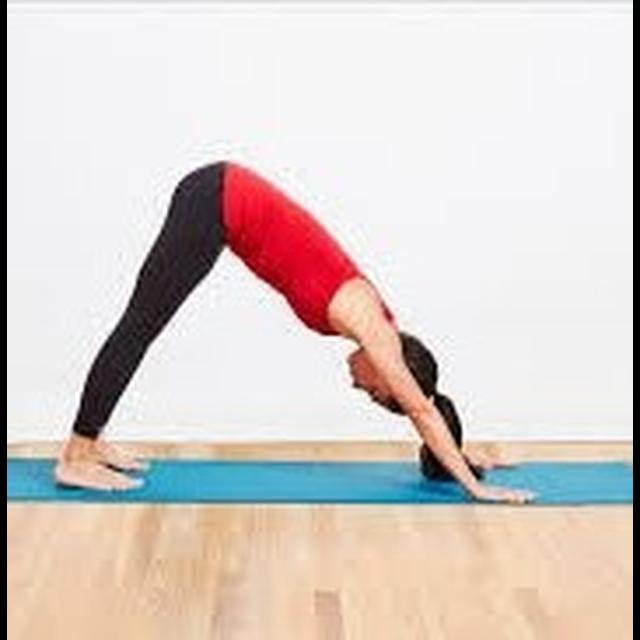Downward-Facing_Dog: (50, 157, 548, 503)
